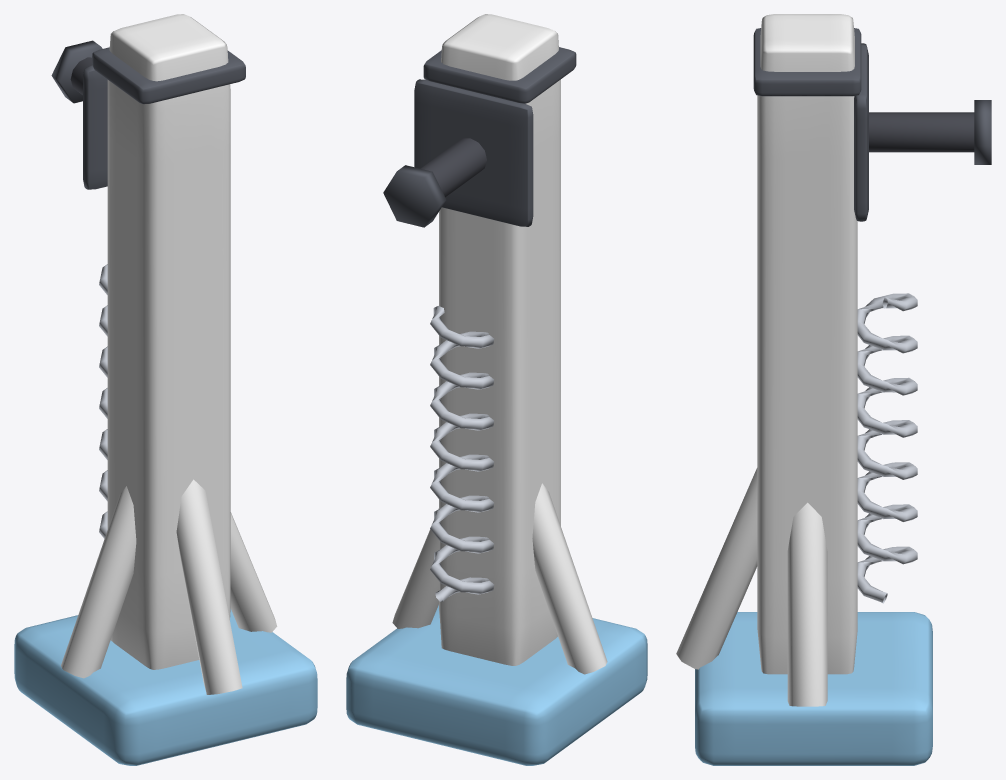
The model's file is LogJamAxeFrame.obj.
The picture shows the model from 3 angles, left to right: view 1: azimuth 30°, elevation 25°; view 2: azimuth 150°, elevation 25°; view 3: azimuth 270°, elevation 25°; orthographic projection. The views are drawn at different scales.
Visible parts, largest first — view 1: Post, Base, Plates, Spring; view 2: Post, Base, Plates, Spring, Bolt; view 3: Post, Base, Spring, Plates, Bolt.
Boxes of the visible parts, x1,y1,x2,y2 form: Post: (61,14,277,694); Base: (14,609,317,765); Plates: (51,40,245,189); Spring: (99,264,107,538); Post: (392,14,607,674); Base: (346,605,647,765); Plates: (383,47,576,227); Spring: (430,306,494,601); Bolt: (420,138,486,197); Post: (676,14,857,706); Base: (695,612,932,765); Spring: (857,293,917,603); Plates: (753,28,991,221); Bolt: (869,112,974,152).
Size of the model in its own units: 2 by 6.1 by 2.52.
